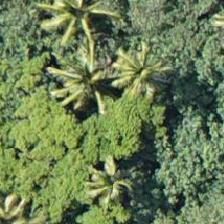coconut_tree: (89, 24, 179, 114), (39, 31, 129, 121), (78, 131, 168, 221), (36, 0, 126, 55)
